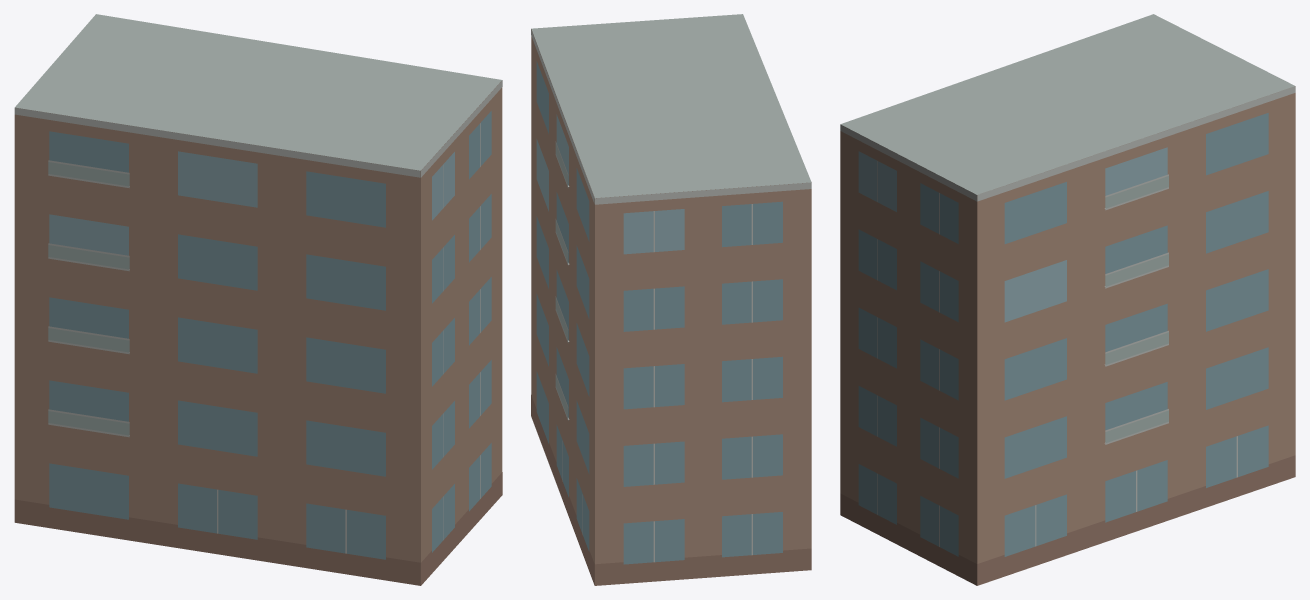
File: survey-upis-32958072.glb
3 views of the same model, side by side, from view 1: azimuth 30°, elevation 25°; view 2: azimuth 150°, elevation 25°; view 3: azimuth 270°, elevation 25° (orthographic). The views are drawn at different scales.
Visible parts, largest first — view 1: survey-upis-32958072.tmp; view 2: survey-upis-32958072.tmp; view 3: survey-upis-32958072.tmp.
Part boxes in pixels (x1,y1,x2,y2): survey-upis-32958072.tmp: (14, 14, 502, 585); survey-upis-32958072.tmp: (531, 14, 811, 585); survey-upis-32958072.tmp: (840, 14, 1295, 585).
Bounding box in the file's own units: 14.31 × 14.4 × 15.21.
